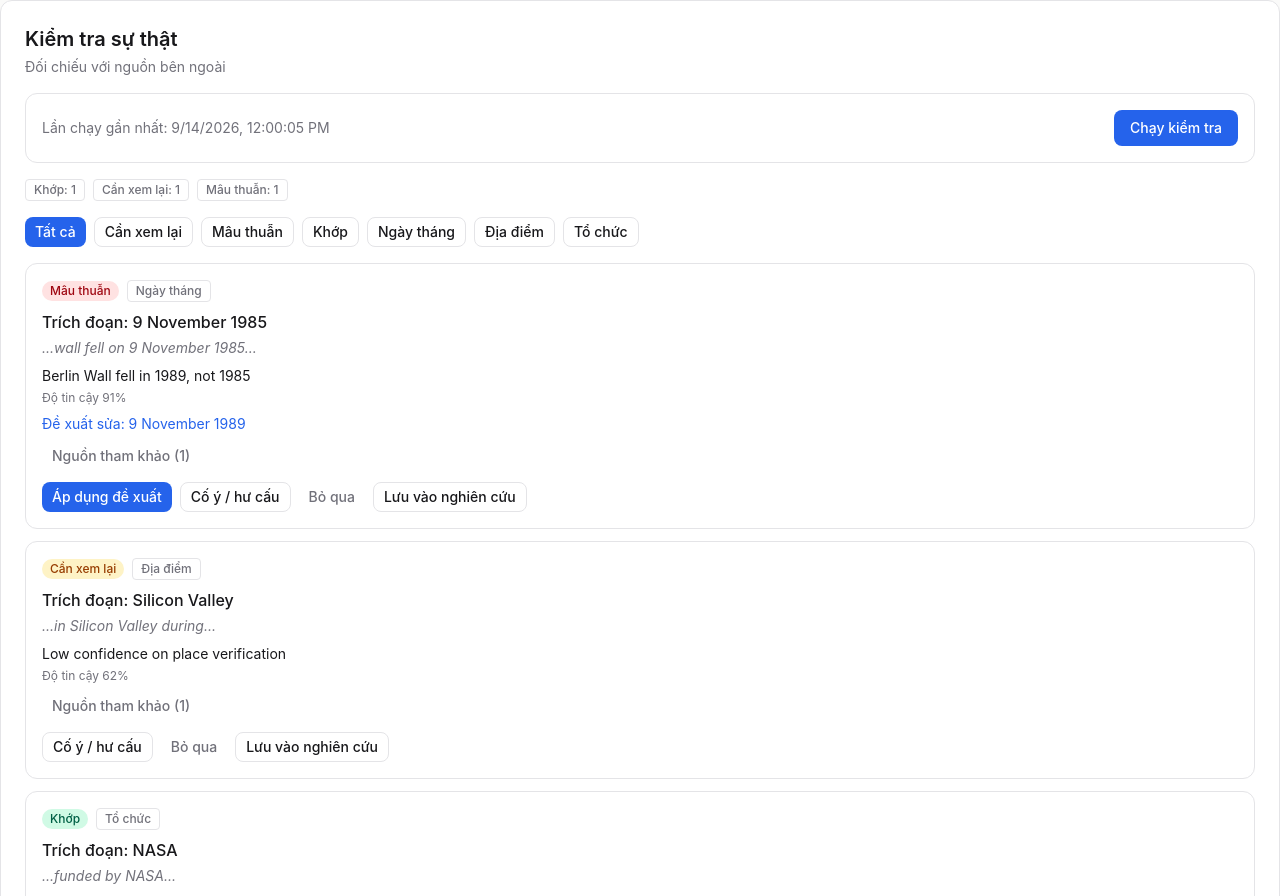
Test: fact-check panel › promote evidence shows research link
The width and height of the screenshot is (1280, 896).
expect the text "Mâu thuẫn: 1" is shown: met, box [197,179,288,201]
Click the button "Lưu vào nghiên cứu" below "Đề xuất sửa": {"x": 450, "y": 497} [373,482,527,512]
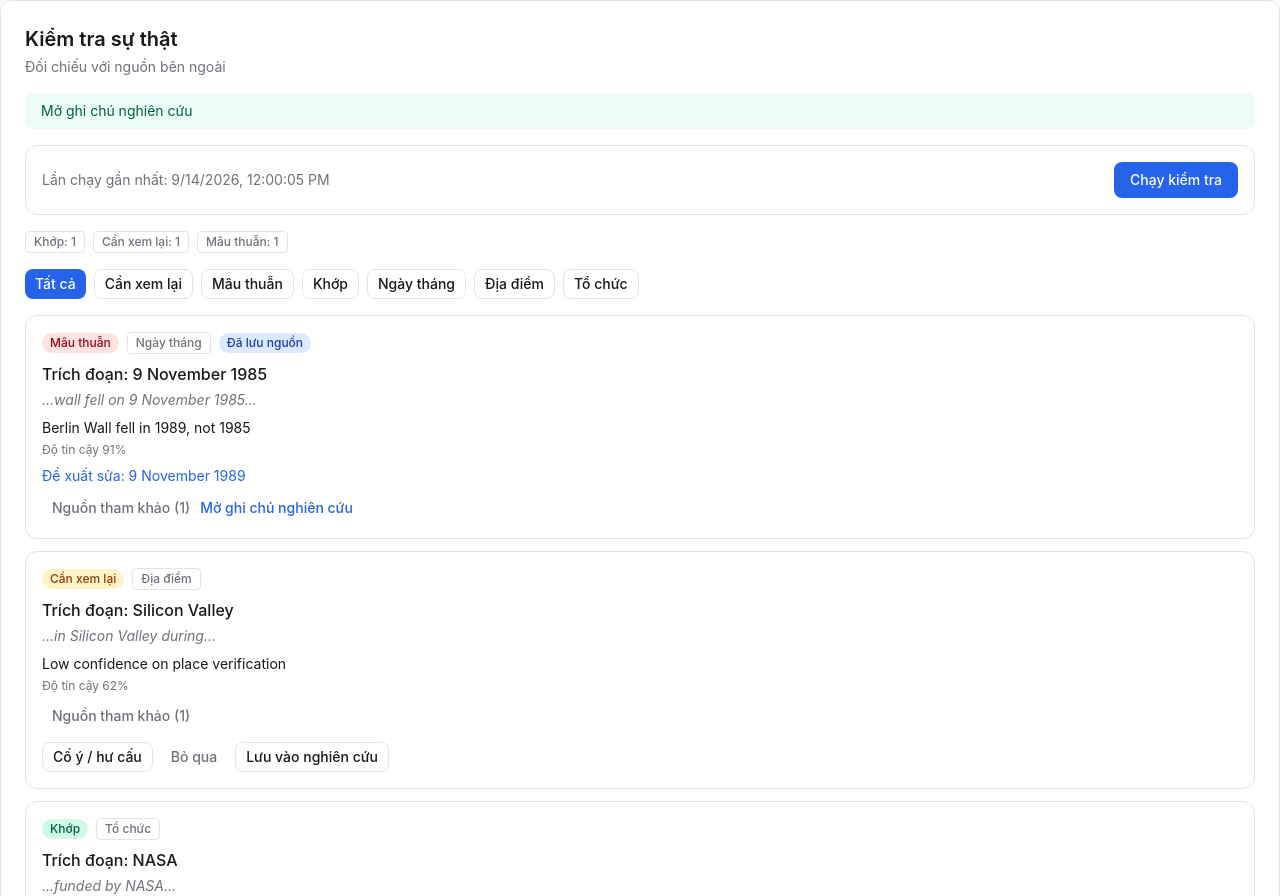
expect the text "Đã lưu nguồn" is shown: met, box [219,333,311,353]
